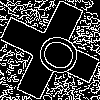O: (25, 25, 84, 81)
